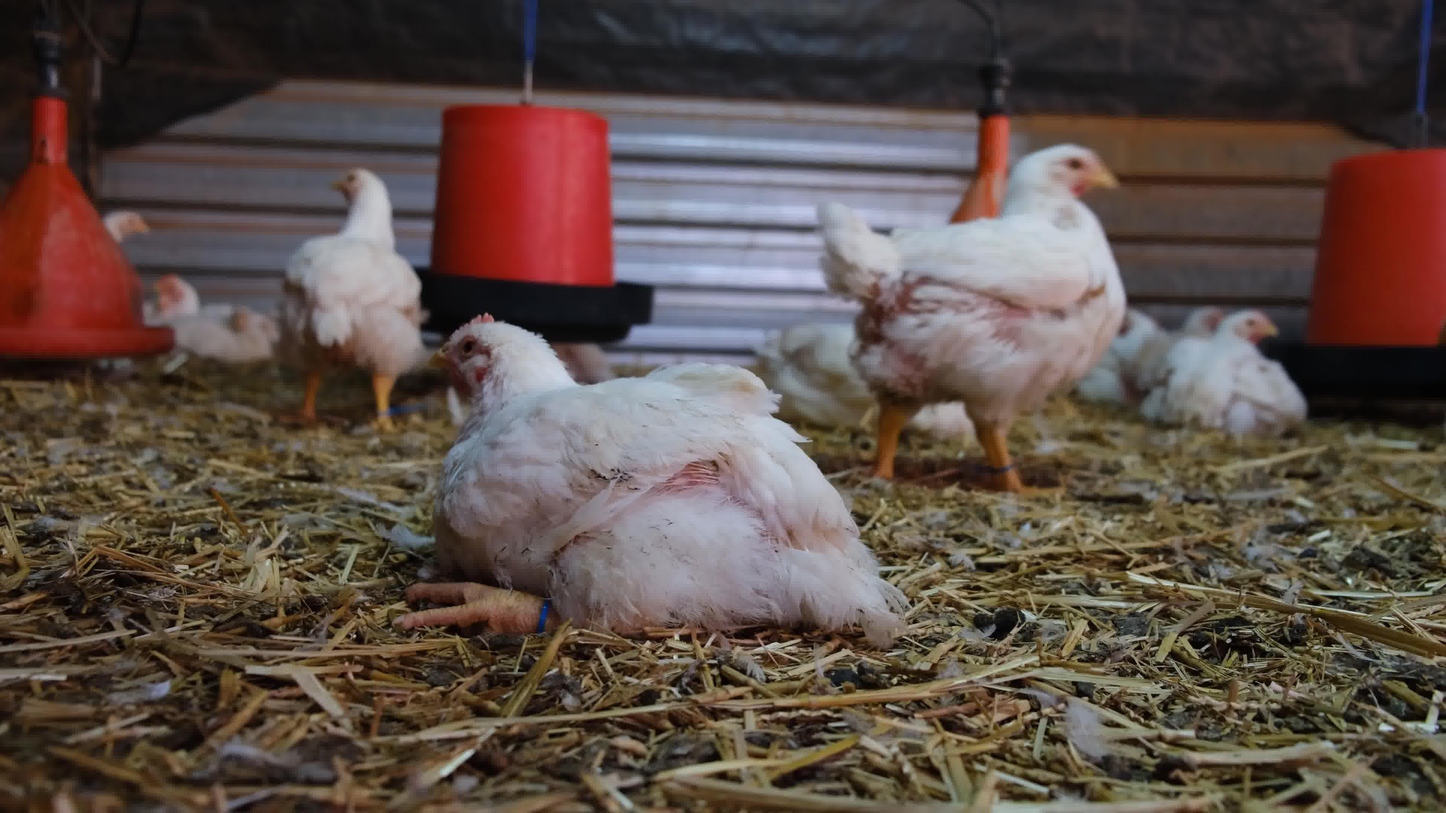AbNormal: (407, 317, 891, 646), (758, 309, 969, 426), (1152, 311, 1313, 438), (138, 264, 284, 374), (1076, 300, 1151, 410), (1167, 301, 1232, 419)
Normal: (817, 136, 1126, 492), (283, 166, 421, 431), (99, 202, 155, 247)
